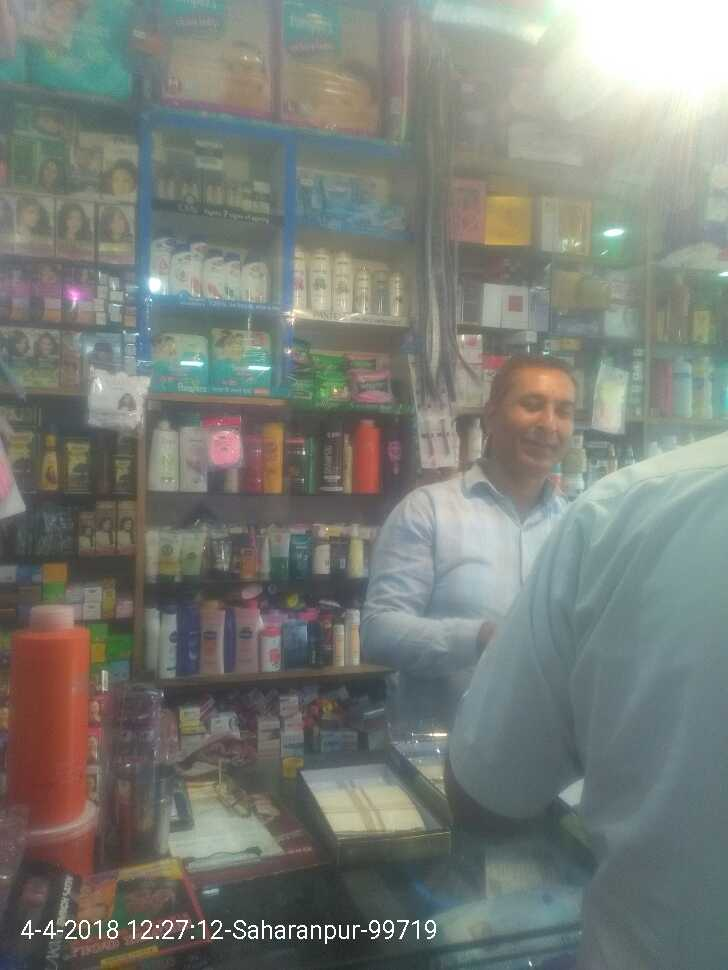venus: (351, 173, 377, 228), (325, 173, 349, 226), (297, 171, 323, 219), (381, 203, 407, 230)
